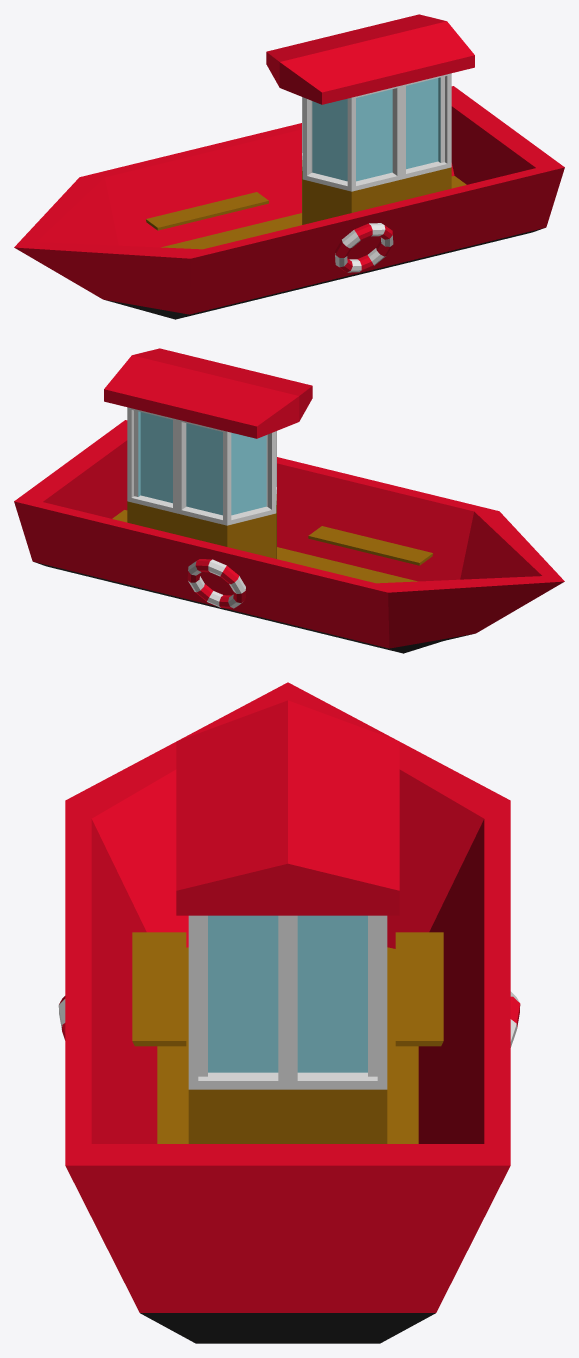
Rendered from Low Polly Kuter Rybacki.fbx.
The picture shows the model from 3 angles, top to bottom: view 1: azimuth 30°, elevation 25°; view 2: azimuth 150°, elevation 25°; view 3: azimuth 270°, elevation 25°; orthographic projection. The views are drawn at different scales.
Visible parts, largest first — view 1: Cube; view 2: Cube; view 3: Cube.
Part boxes in pixels (x1,y1,x2,y2): Cube: (14,14,564,319); Cube: (14,348,564,653); Cube: (58,682,520,1343).
Size of the model in its own units: 514 by 208 by 207.
